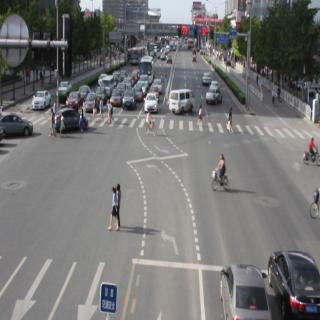Car: (264, 248, 320, 320), (218, 258, 270, 320), (3, 108, 34, 142), (51, 106, 90, 132), (165, 88, 194, 116), (32, 80, 54, 112), (64, 83, 82, 109), (145, 89, 158, 121), (140, 55, 154, 83), (121, 88, 137, 112), (85, 89, 98, 114), (109, 90, 124, 109), (101, 73, 117, 89), (57, 82, 75, 96), (152, 74, 165, 93), (96, 86, 108, 106), (209, 88, 222, 106), (133, 83, 144, 101)
